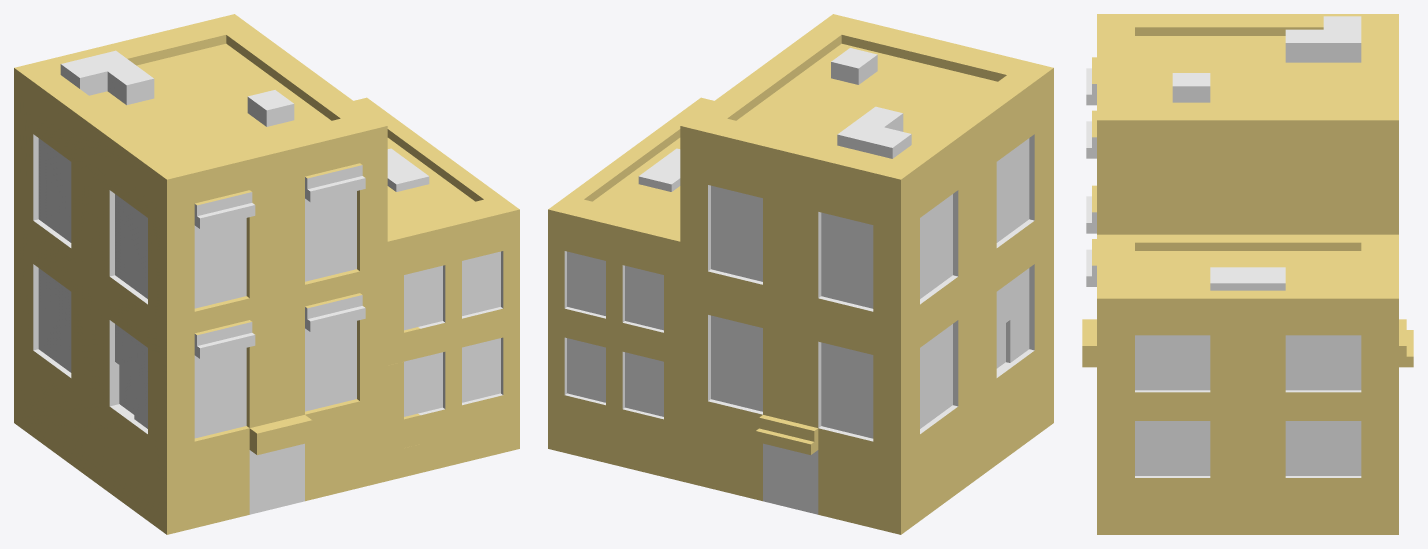
File: LShapedTowerMesh.fbx
3 renders of one model, left to right at view 1: azimuth 30°, elevation 25°; view 2: azimuth 150°, elevation 25°; view 3: azimuth 270°, elevation 25°, orthographic.
Visible parts, largest first — view 1: tallerBuilding, shorterBuilding; view 2: tallerBuilding, shorterBuilding; view 3: shorterBuilding, tallerBuilding.
Part boxes in pixels (left/top/right/bottom): tallerBuilding: left=14, top=14, right=387, bottom=534; shorterBuilding: left=354, top=97, right=519, bottom=480; tallerBuilding: left=680, top=14, right=1053, bottom=534; shorterBuilding: left=548, top=97, right=713, bottom=480; shorterBuilding: left=1097, top=234, right=1398, bottom=534; tallerBuilding: left=1082, top=14, right=1413, bottom=367.
Bounding box in the file's own units: 1599 × 1586 × 1316.
